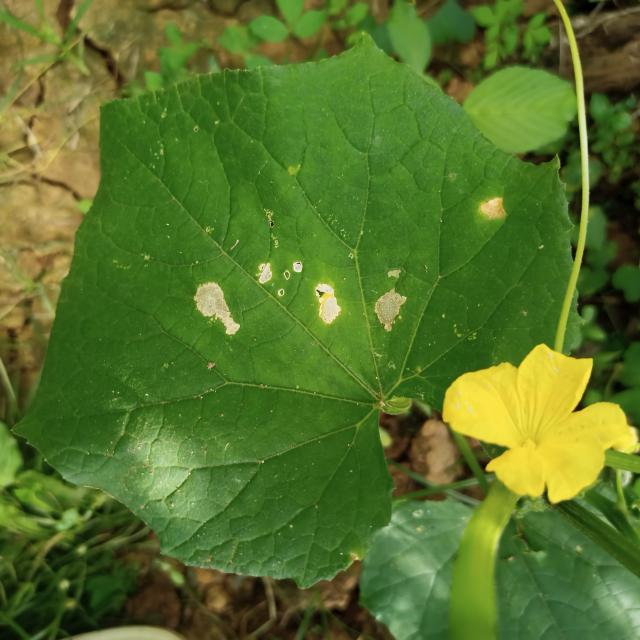disease_cucumber: (192, 256, 407, 334), (477, 193, 509, 220)
